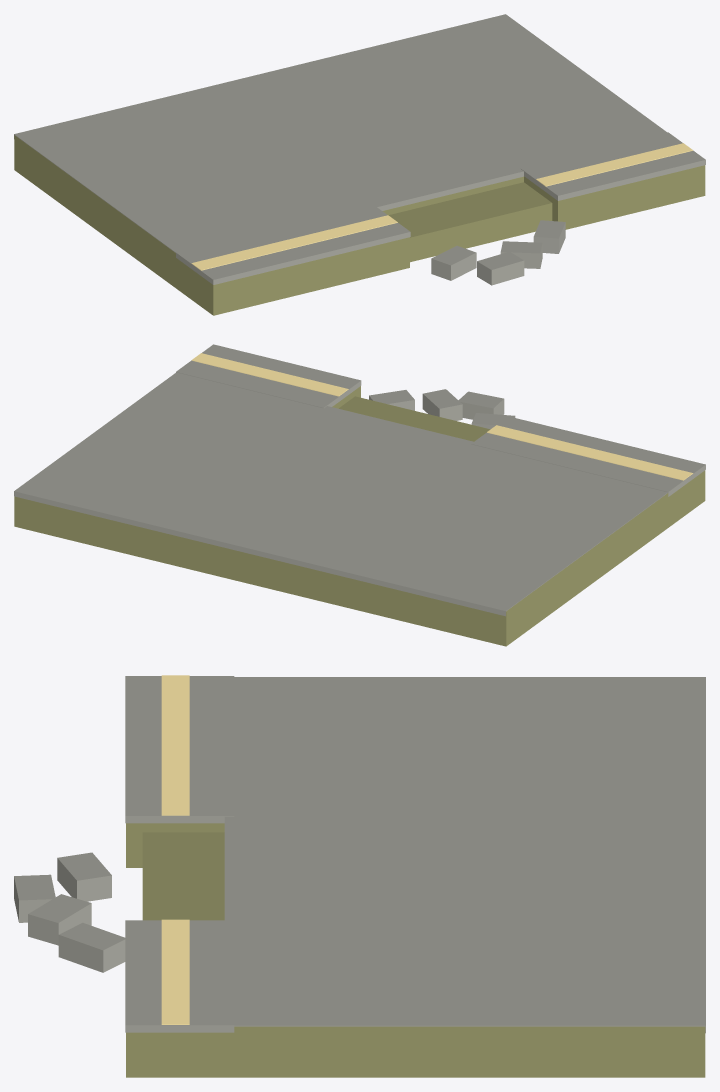
Rendered from SM_KitAnden_F7_v2_LOD0.fbx.
3 renders of one model, top to bottom at view 1: azimuth 30°, elevation 25°; view 2: azimuth 150°, elevation 25°; view 3: azimuth 270°, elevation 25°, orthographic. The views are drawn at different scales.
Parts seen in each view (by area): view 1: SM_kit_anden_v2_LOD0; view 2: SM_kit_anden_v2_LOD0; view 3: SM_kit_anden_v2_LOD0.
Part boxes in pixels (box(x1,y1,x2,y2)): SM_kit_anden_v2_LOD0: box(14, 14, 705, 315); SM_kit_anden_v2_LOD0: box(14, 344, 705, 646); SM_kit_anden_v2_LOD0: box(14, 675, 705, 1077).
Bounding box in the file's own units: 9.99 × 0.71 × 8.36.
